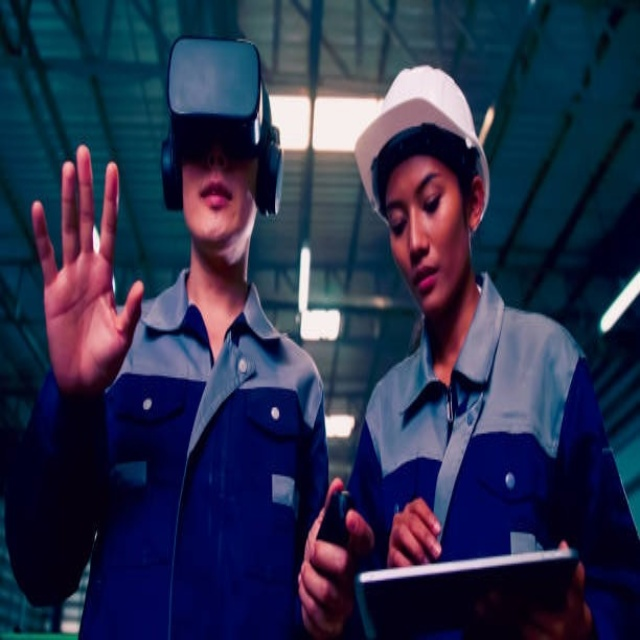Sin_gafas: (387, 156, 444, 233)
Sin_guantes: (33, 144, 145, 397), (298, 477, 376, 638), (494, 537, 592, 640), (386, 495, 443, 568)
Sin_mascara: (189, 169, 236, 225), (407, 249, 443, 300)
